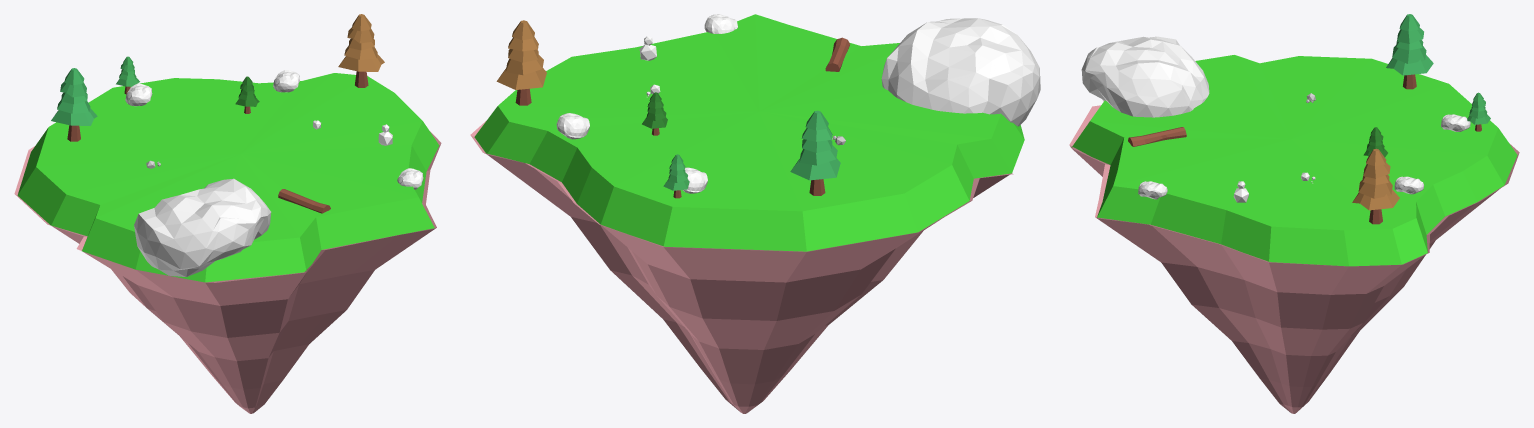
Rendered from ground_plains.glb.
3 views of the same model, side by side, from view 1: azimuth 30°, elevation 25°; view 2: azimuth 150°, elevation 25°; view 3: azimuth 270°, elevation 25° (orthographic). The views are drawn at different scales.
Visible parts, largest first — view 1: Vert.001, Vert, Icosphere.011, Tree.005, Tree.001, Cylinder.001, Tree.002, Icosphere.001, Icosphere.020, Tree.003, Icosphere.010; view 2: Vert.001, Vert, Icosphere.011, Tree.001, Tree.005, Icosphere.001, Tree.003, Tree.002, Icosphere.010; view 3: Vert.001, Vert, Icosphere.011, Tree.001, Tree.005, Cylinder.001, Tree.003, Icosphere.010, Icosphere.001, Icosphere.020.
Boxes of the visible parts, left/top/right/bottom form: Vert.001: left=17, top=73, right=439, bottom=282; Vert: left=14, top=131, right=441, bottom=413; Icosphere.011: left=134, top=178, right=271, bottom=277; Tree.005: left=51, top=68, right=97, bottom=141; Tree.001: left=338, top=14, right=384, bottom=87; Cylinder.001: left=278, top=189, right=330, bottom=213; Tree.002: left=235, top=76, right=259, bottom=113; Icosphere.001: left=273, top=70, right=299, bottom=92; Icosphere.020: left=125, top=83, right=152, bottom=106; Tree.003: left=116, top=56, right=139, bottom=94; Icosphere.010: left=397, top=168, right=423, bottom=189; Vert.001: left=474, top=14, right=1024, bottom=251; Vert: left=470, top=120, right=1013, bottom=413; Icosphere.011: left=881, top=18, right=1040, bottom=126; Tree.001: left=496, top=20, right=546, bottom=105; Tree.005: left=790, top=110, right=840, bottom=195; Icosphere.001: left=556, top=113, right=589, bottom=139; Tree.003: left=663, top=154, right=689, bottom=198; Tree.002: left=642, top=92, right=667, bottom=135; Icosphere.010: left=704, top=14, right=737, bottom=33; Vert.001: left=1071, top=55, right=1517, bottom=266; Vert: left=1069, top=105, right=1519, bottom=413; Icosphere.011: left=1081, top=36, right=1209, bottom=117; Tree.001: left=1352, top=148, right=1399, bottom=224; Tree.005: left=1386, top=14, right=1433, bottom=89; Cylinder.001: left=1128, top=127, right=1186, bottom=146; Tree.003: left=1467, top=92, right=1490, bottom=131; Icosphere.010: left=1138, top=181, right=1167, bottom=199; Icosphere.001: left=1394, top=176, right=1423, bottom=194; Icosphere.020: left=1441, top=114, right=1470, bottom=131.
Size of the model in its own units: 7.31 by 5.92 by 7.14.
